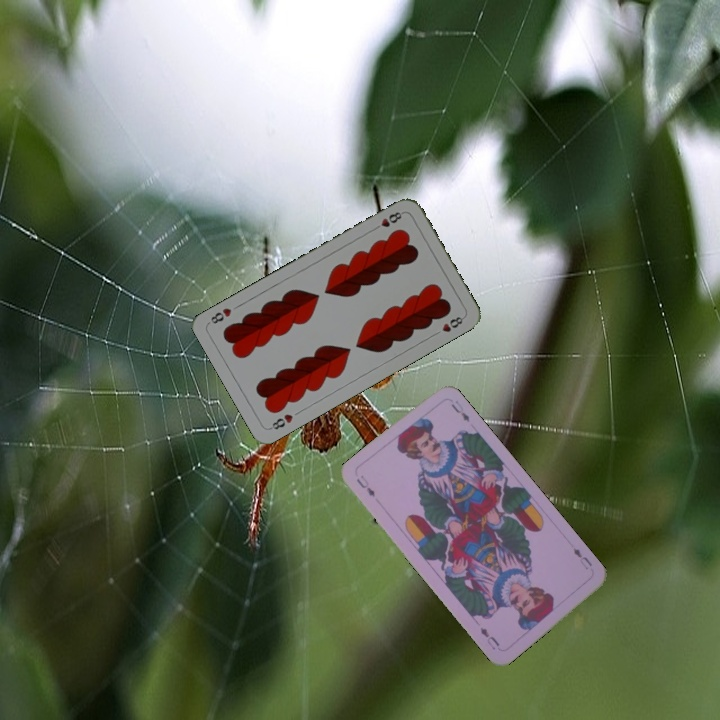EU: (352, 471, 378, 500), (569, 544, 595, 572)
H8: (369, 207, 406, 233), (266, 410, 296, 432)
